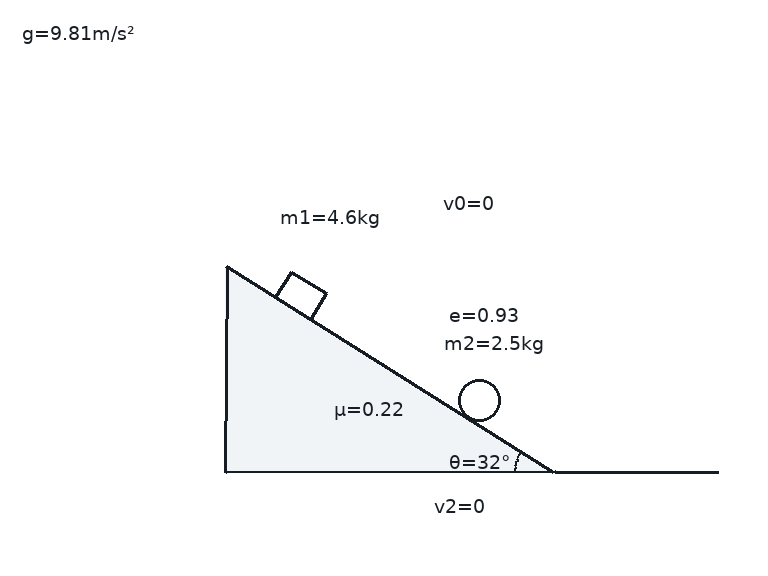ball: (456, 377, 502, 423)
block: (273, 269, 329, 321)
ramp: (224, 264, 557, 474)
